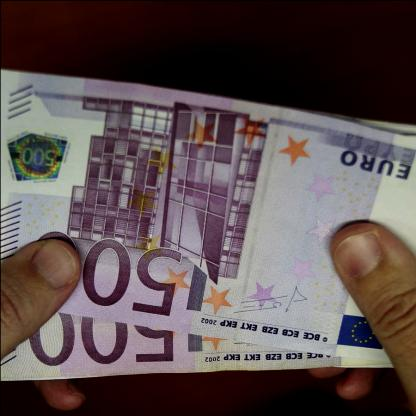euro_banknote: (18, 97, 400, 336)
